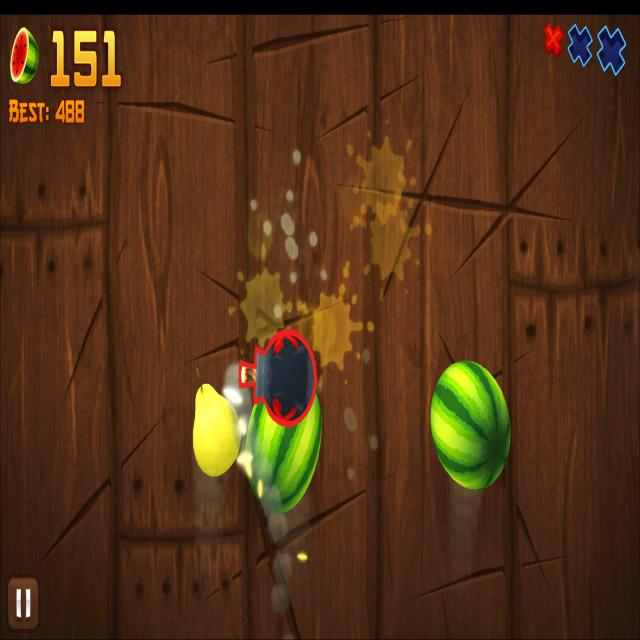bomb: (238, 327, 318, 429)
fruit: (429, 359, 512, 491), (245, 392, 322, 514), (192, 382, 243, 478)
